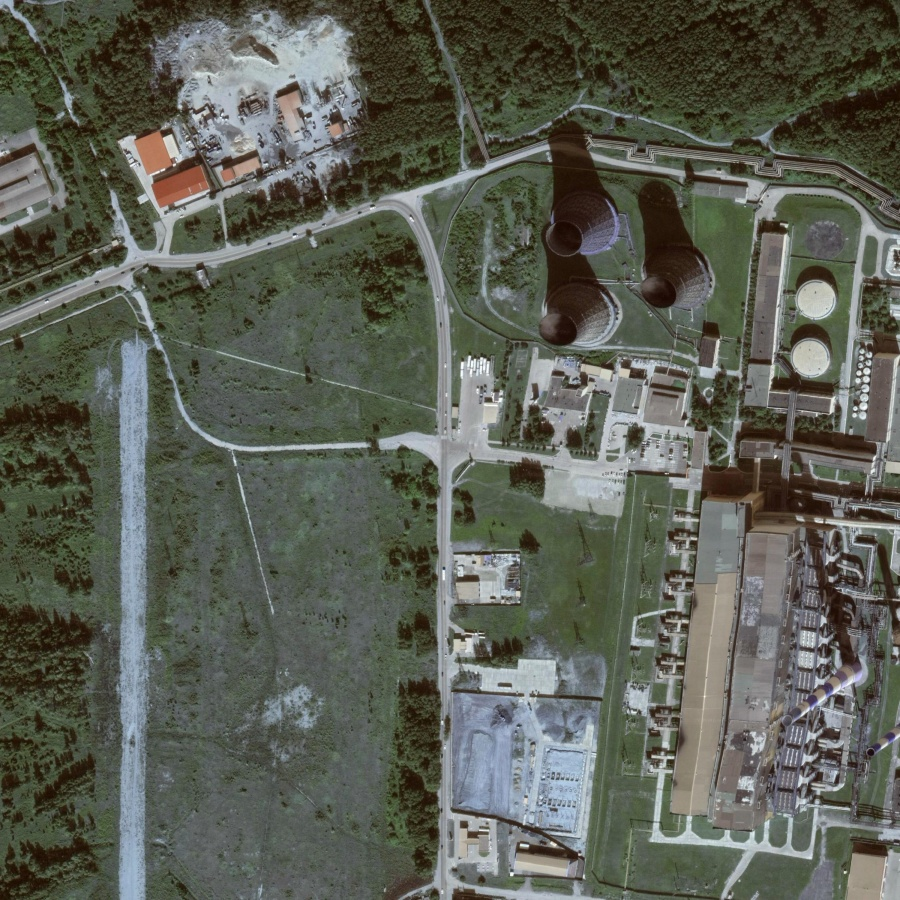PowerPlant: (526, 109, 858, 423)
